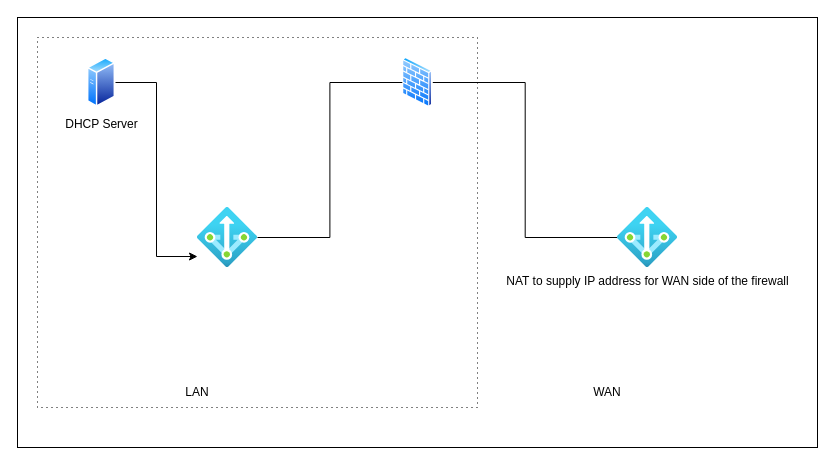
Some shapes in this 835 by 465 pixel diagram are drawn without their labels. The shapes that lost their labels are listed below. From the top down, each one's centre as x and y in pixels, then its label:
(417,82): Your DMZ firewall
(227,237): Isolated Network
